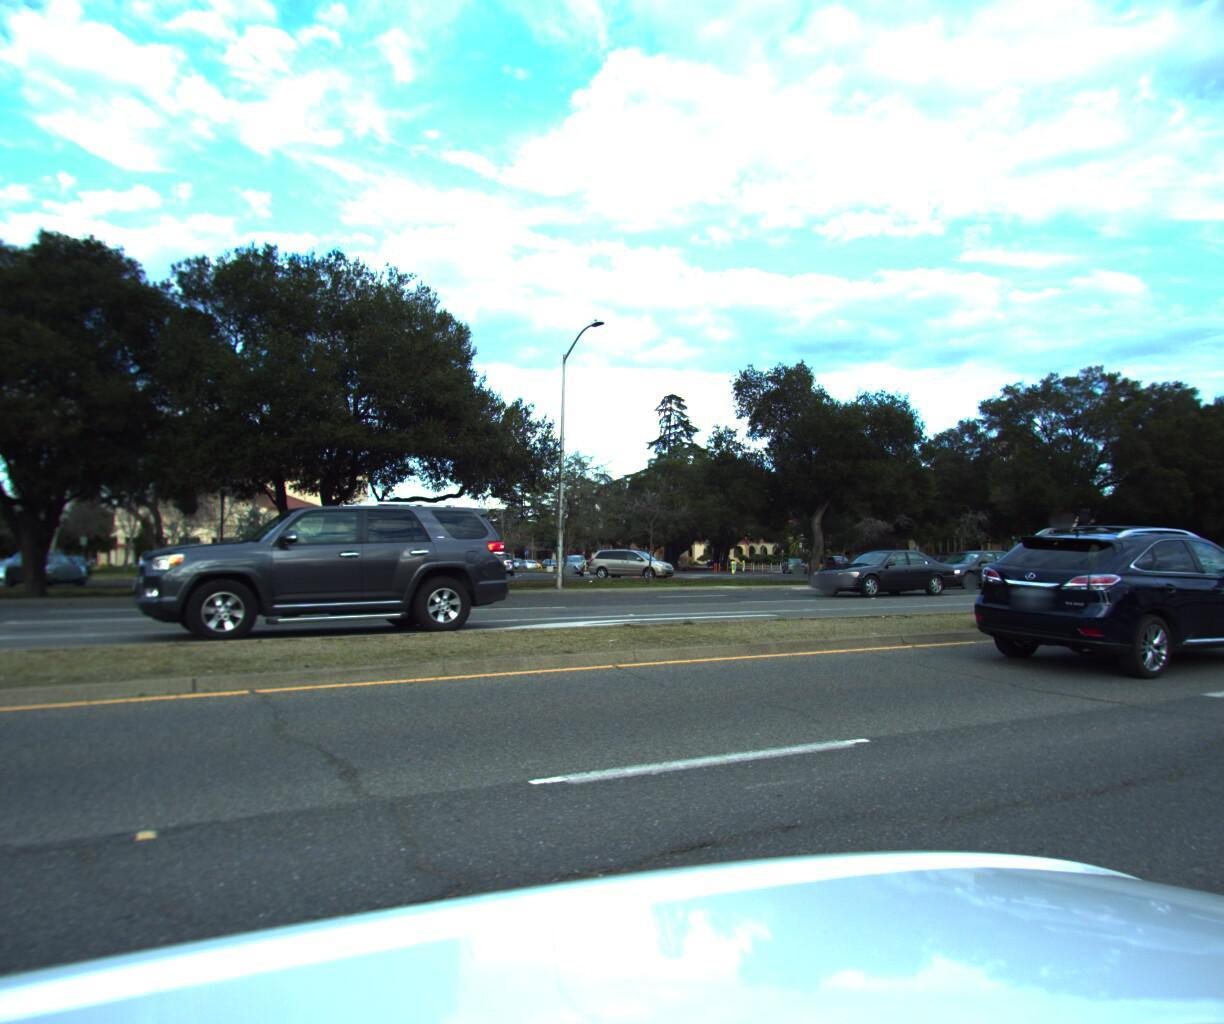car: (128, 495, 517, 651), (956, 510, 1224, 675), (797, 542, 960, 597), (911, 545, 1039, 588)
